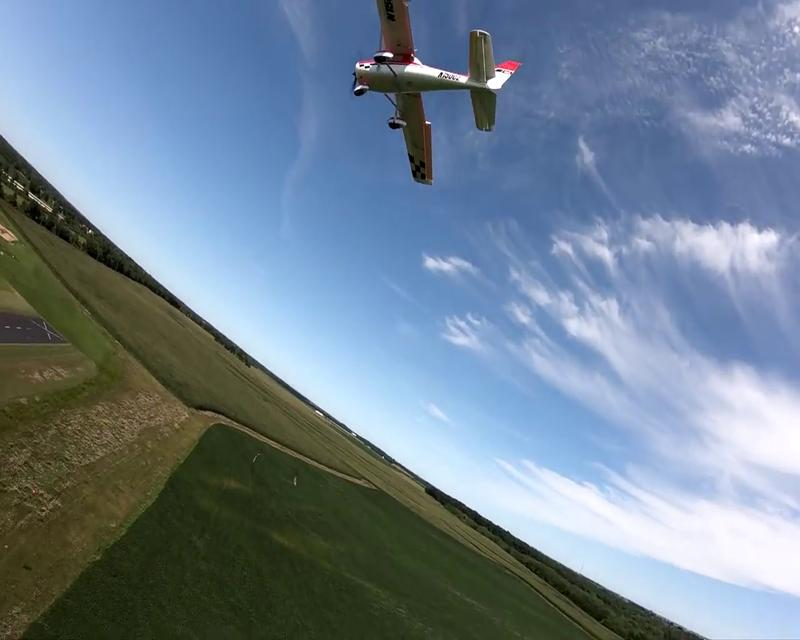UAV: (354, 1, 522, 185)
